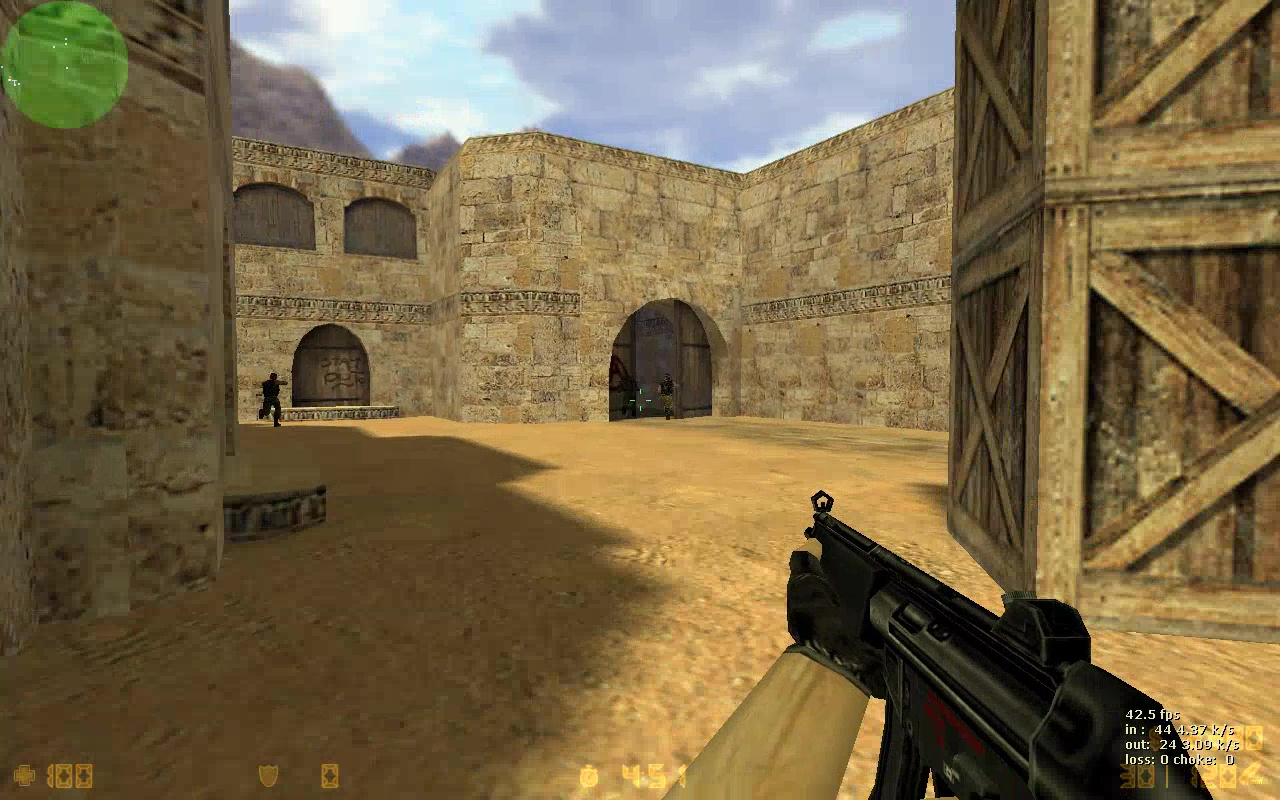terr1: (260, 372, 286, 429), (659, 376, 675, 421)
